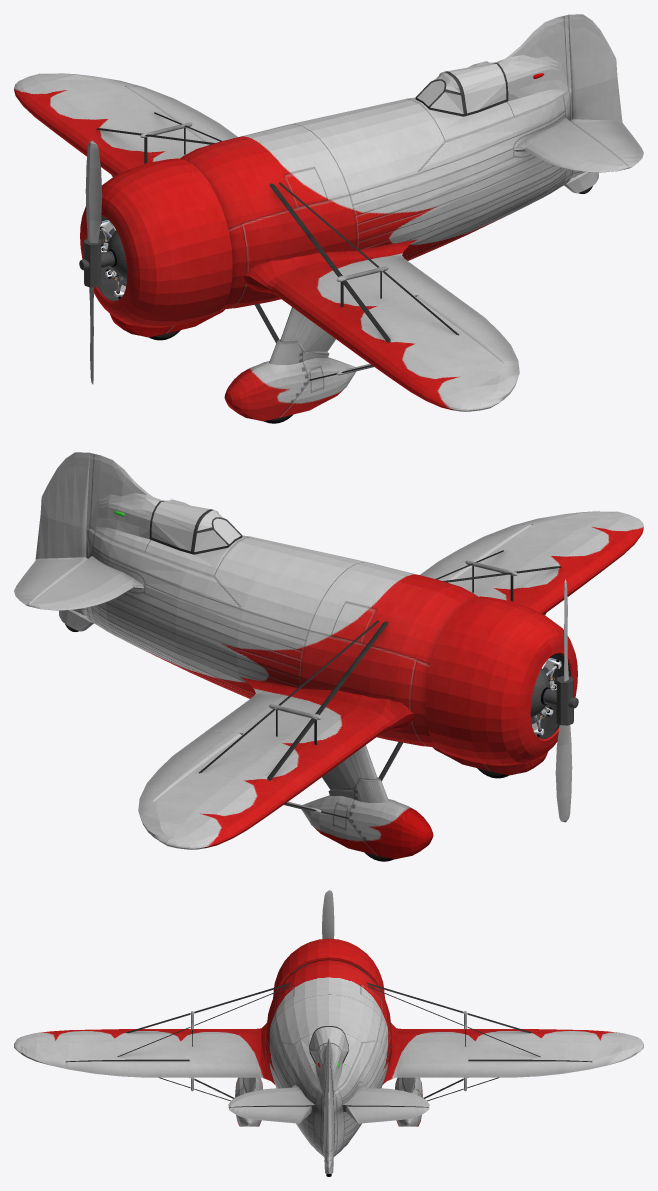
Rendered from geebee-r2-like.obj.
3 renders of one model, top to bottom at view 1: azimuth 30°, elevation 25°; view 2: azimuth 150°, elevation 25°; view 3: azimuth 270°, elevation 25°, orthographic. The views are drawn at different scales.
Parts seen in each view (by area): view 1: Object_17, Object_20, Object_19, Object_18, Object_22, Object_1, Object_0; view 2: Object_17, Object_20, Object_19, Object_18, Object_22, Object_0; view 3: Object_17, Object_18, Object_20, Object_19, Object_22.
Part boxes in pixels (x1,y1,x2,y2): Object_17: (14,14,643,411); Object_20: (80,86,417,327); Object_19: (110,172,598,423); Object_18: (79,61,627,380); Object_22: (417,63,506,113); Object_1: (100,220,126,299); Object_0: (107,221,127,279); Object_17: (14,452,643,849); Object_20: (219,524,577,765); Object_19: (59,610,547,861); Object_18: (30,499,578,818); Object_22: (151,501,240,551); Object_0: (530,659,559,737); Object_17: (14,890,643,1171); Object_18: (117,982,540,1176); Object_20: (65,938,592,1144); Object_19: (235,1077,422,1173); Object_22: (309,1027,348,1061).
Size of the model in its own units: 534 by 260 by 764.
Materials: 18 (15 with a texture image).
